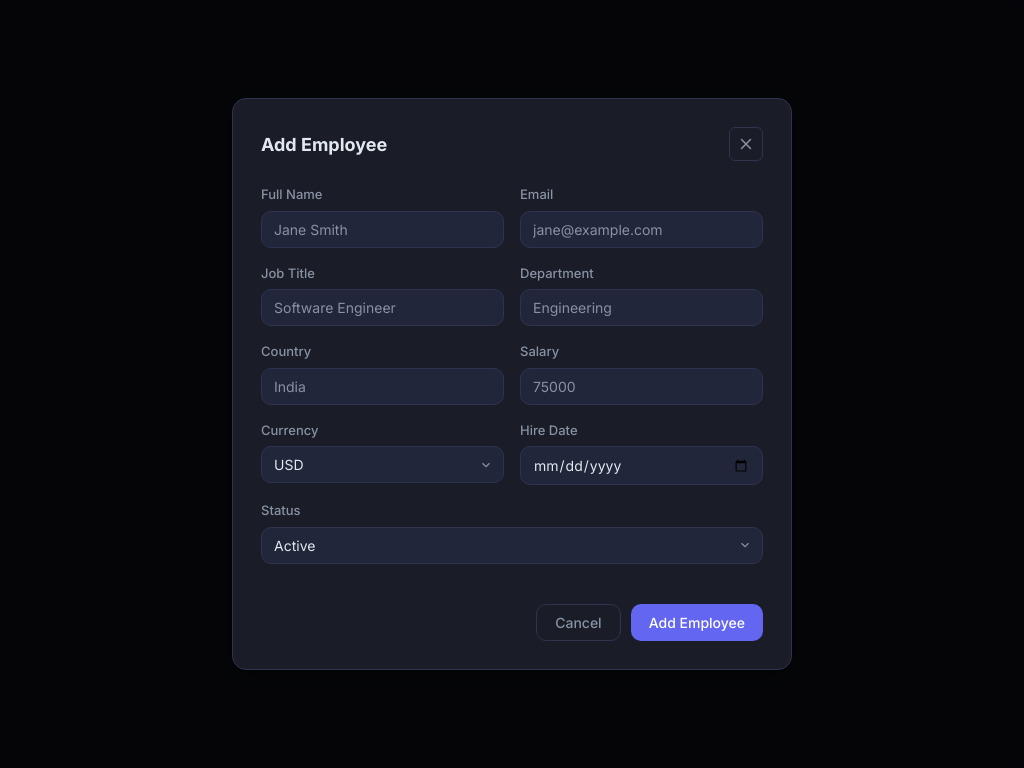
EmployeeFormModal › 9.10 submitting empty form shows validation errors
Click the button with id "modal-submit-btn". click: (697, 622)
box: [631,604,763,641]
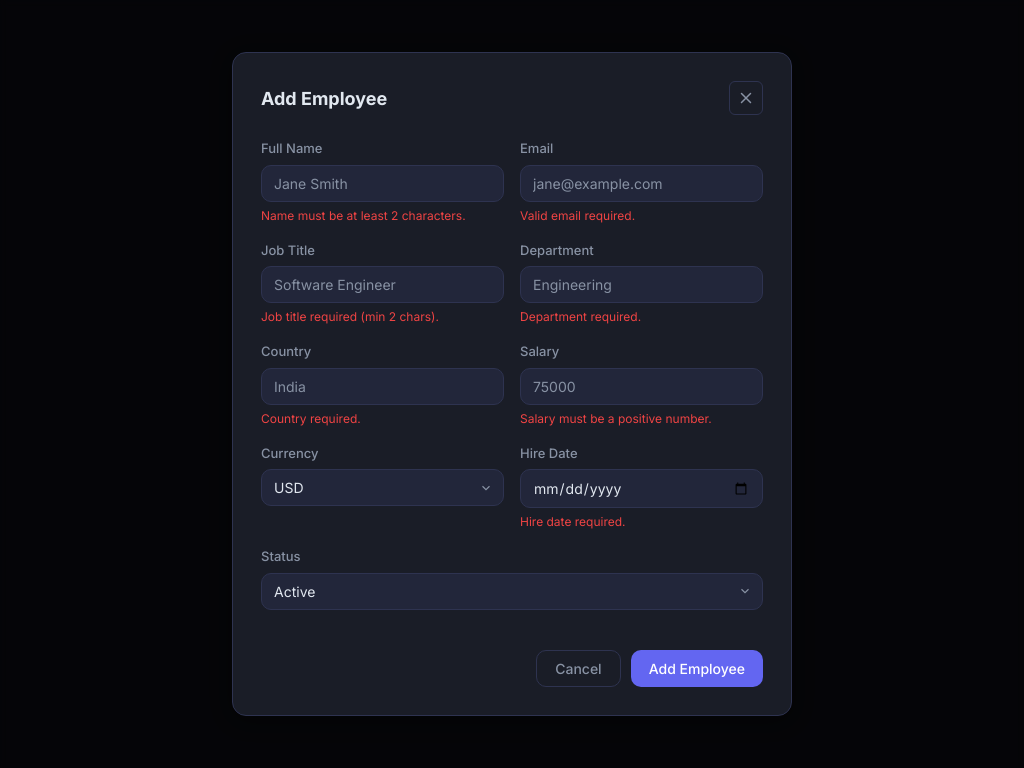
Expected: the text "Name must be at least 2 characters." is shown, [261,208,466,223]
